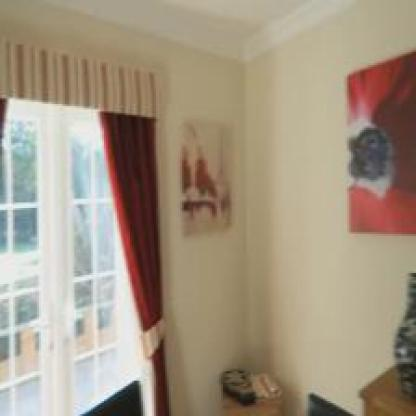other: (90, 109, 182, 407), (335, 62, 412, 236)
